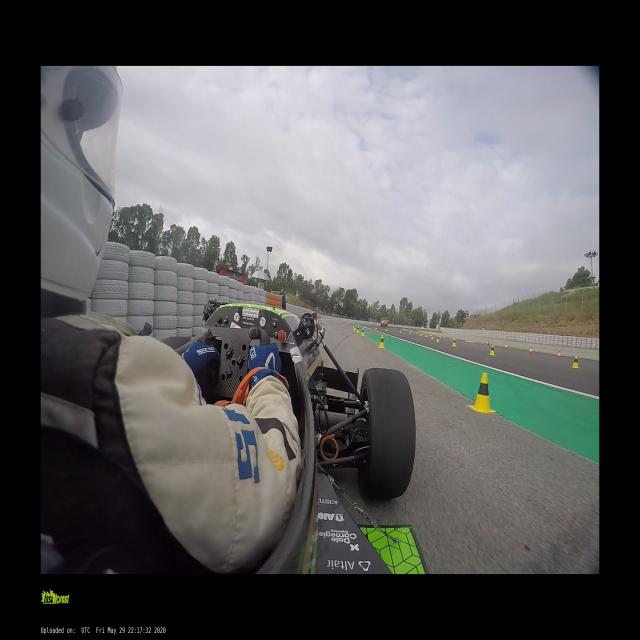orange_cone: (556, 351, 561, 361), (528, 347, 532, 356), (503, 344, 508, 350), (338, 320, 341, 325), (348, 322, 350, 325)
yellow_cone: (469, 373, 496, 413), (571, 356, 580, 368), (378, 335, 385, 349), (488, 344, 495, 356), (452, 339, 456, 347), (361, 328, 365, 336), (435, 336, 439, 342), (356, 326, 359, 333), (431, 334, 434, 339), (352, 323, 355, 328), (385, 326, 388, 331), (419, 332, 422, 336), (354, 325, 356, 330), (363, 323, 365, 328), (425, 333, 427, 337), (375, 326, 377, 328), (409, 330, 410, 334), (400, 329, 401, 333)
